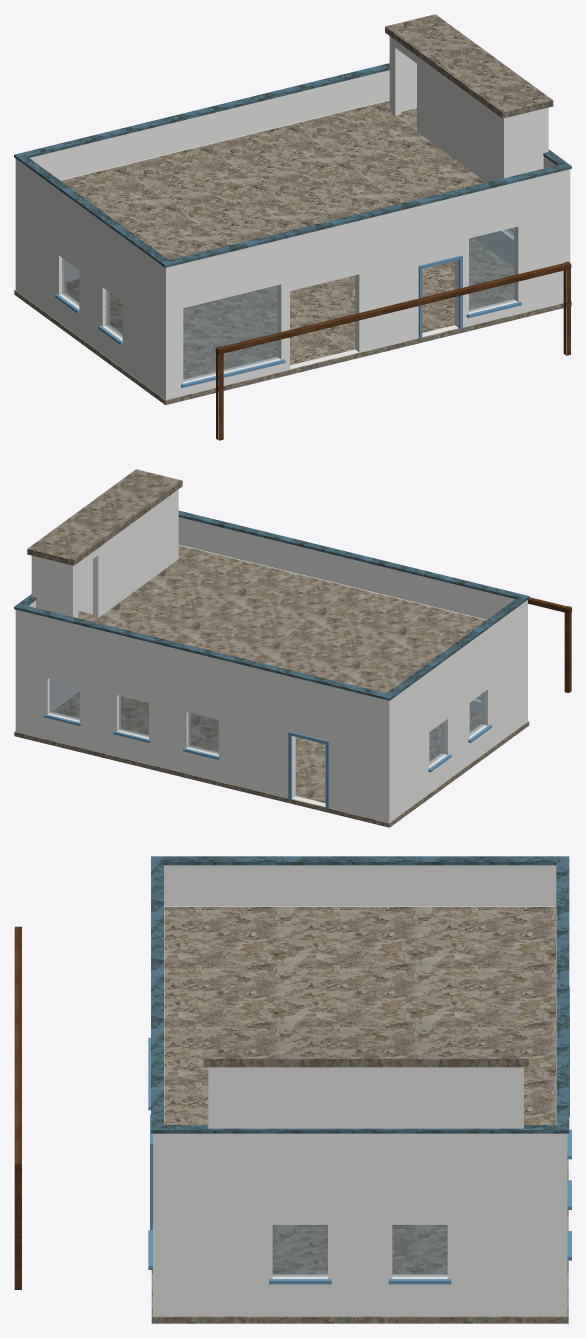
Rendered from bay-beach-club.glass-v3.lod1.glb.
The picture shows the model from 3 angles, top to bottom: view 1: azimuth 30°, elevation 25°; view 2: azimuth 150°, elevation 25°; view 3: azimuth 270°, elevation 25°; orthographic projection. The views are drawn at different scales.
Parts seen in each view (by area): view 1: bay-beach-club; view 2: bay-beach-club; view 3: bay-beach-club.
Part boxes in pixels (box(x1,y1,x2,y2)): bay-beach-club: box(14, 14, 571, 440); bay-beach-club: box(14, 469, 571, 827); bay-beach-club: box(14, 856, 571, 1323).
Bounding box in the file's own units: 14.2 × 6.37 × 12.12.
4 materials, 2 textured.
